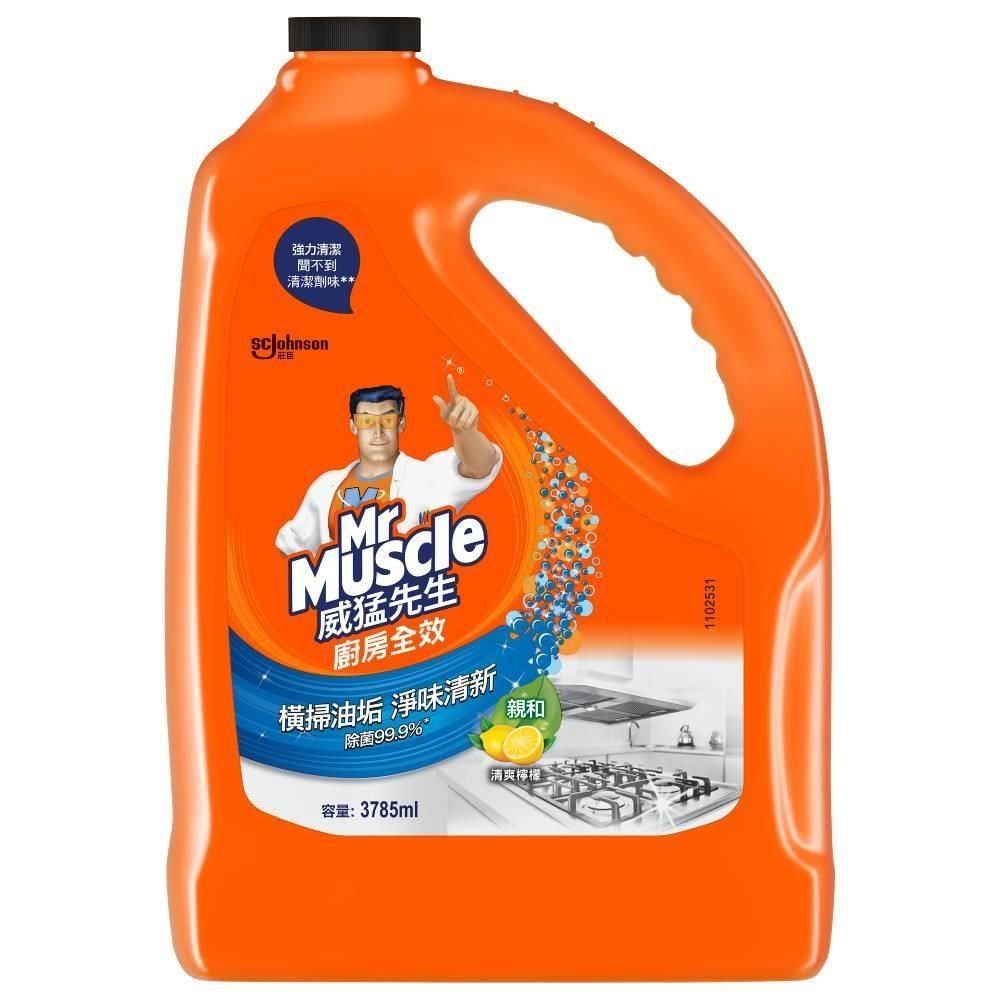cleaner: (172, 10, 871, 990)
